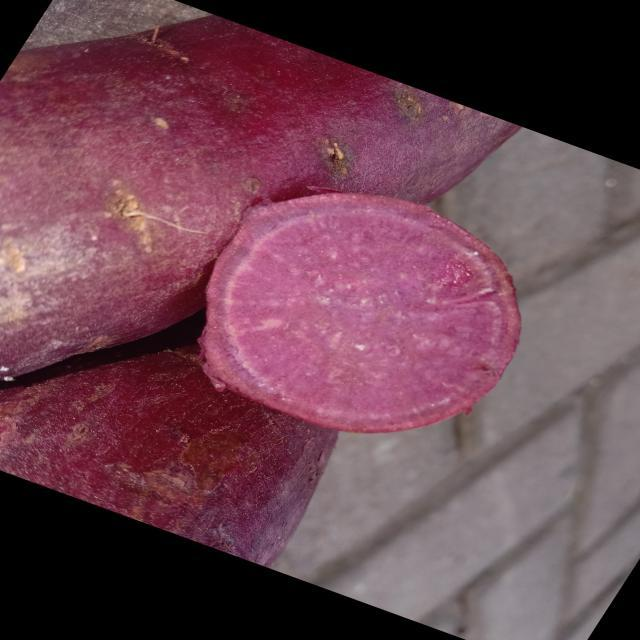Healthy Sweet Potato: (200, 194, 520, 432)
